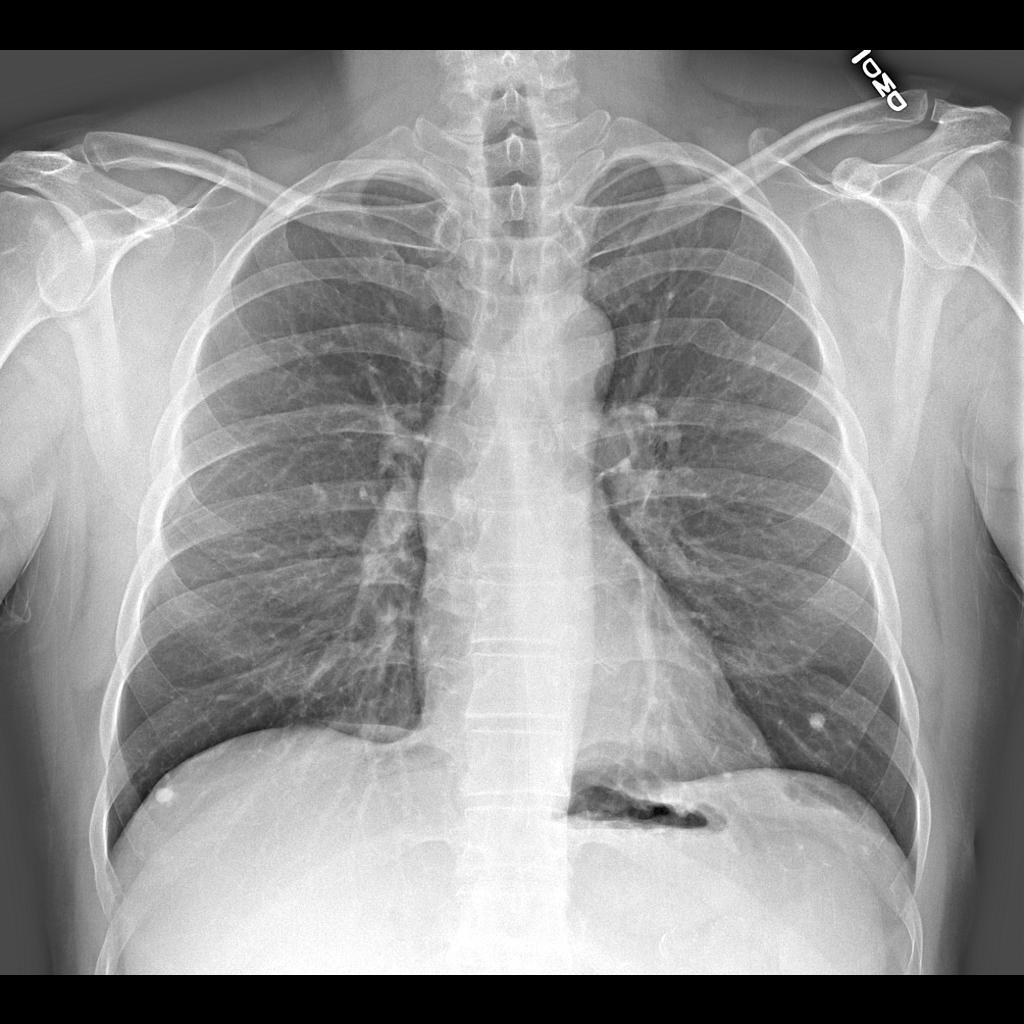Nodule: (807, 710, 834, 743), (156, 785, 186, 814)
